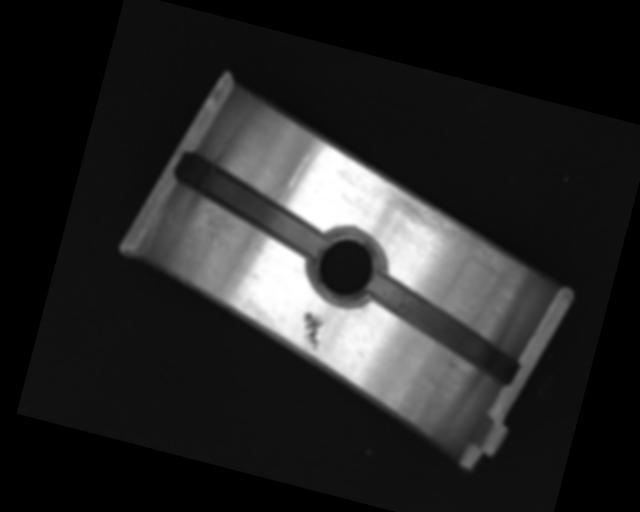bruise: (295, 309, 327, 352)
gap: (355, 270, 530, 387), (163, 150, 336, 258)
hole: (298, 222, 392, 312)
nick: (289, 134, 329, 193)
scratch: (318, 156, 535, 287)
